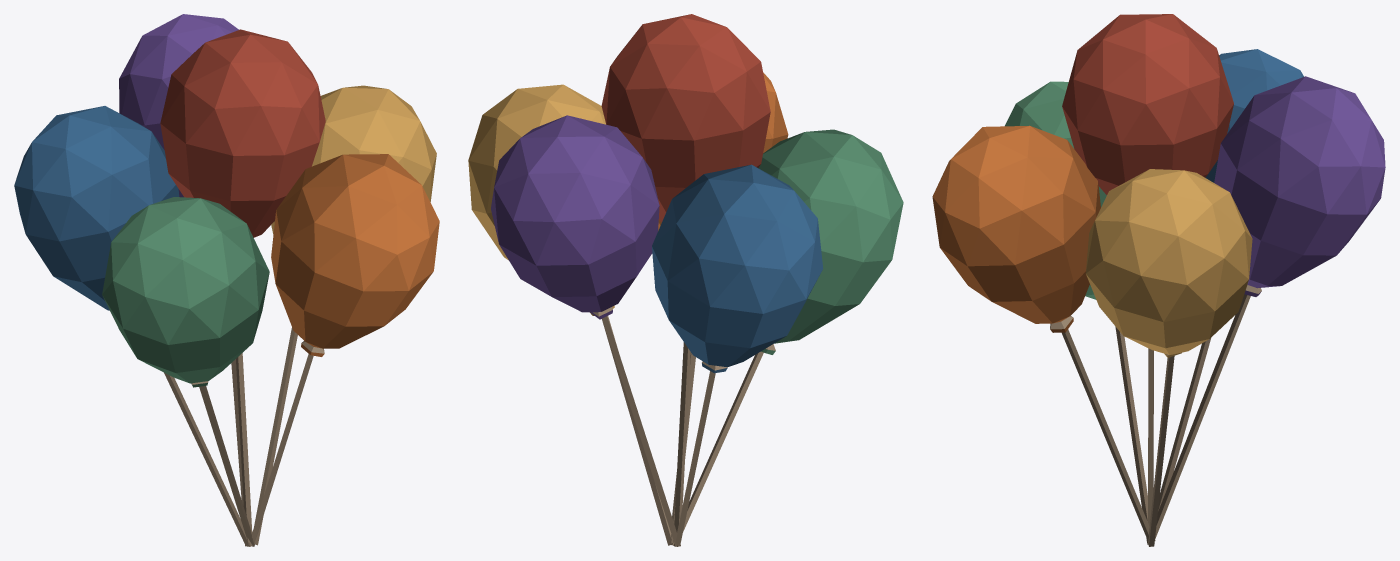
File: SM_Prop_Balloon_02.glb
3 views of the same model, side by side, from view 1: azimuth 30°, elevation 25°; view 2: azimuth 150°, elevation 25°; view 3: azimuth 270°, elevation 25° (orthographic). The views are drawn at different scales.
Visible parts, largest first — view 1: SM_Prop_Balloon_02; view 2: SM_Prop_Balloon_02; view 3: SM_Prop_Balloon_02.
Boxes of the visible parts, x1,y1,x2,y2 form: SM_Prop_Balloon_02: [14, 14, 439, 546]; SM_Prop_Balloon_02: [468, 14, 903, 546]; SM_Prop_Balloon_02: [932, 14, 1385, 546].
Size of the model in its own units: 1.21 by 1.65 by 1.3.
Materials: 1 (1 with a texture image).
